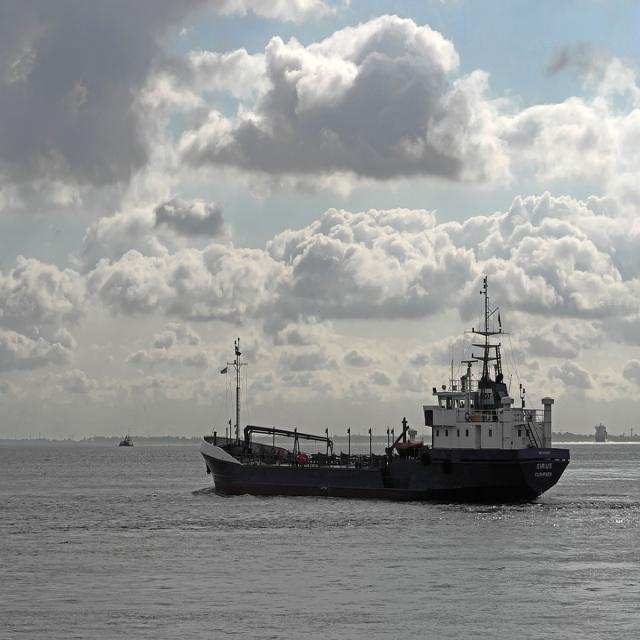fishing boat: (202, 332, 568, 499)
